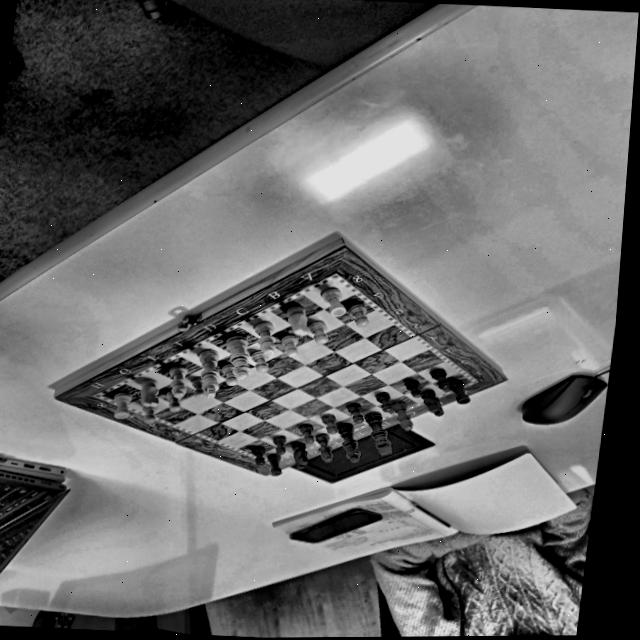black-bishop: (309, 431, 340, 463), (389, 401, 421, 431)
black-king: (362, 412, 403, 458)
black-knight: (415, 388, 448, 419), (287, 442, 315, 471)
black-pawn: (424, 364, 457, 391), (370, 389, 396, 413), (341, 401, 368, 424), (397, 377, 428, 396), (317, 411, 341, 435), (269, 433, 291, 456), (247, 443, 269, 466), (296, 422, 318, 444)
black-queen: (332, 422, 370, 464)
black-rook: (445, 379, 478, 405), (262, 452, 289, 477)
white-bishop: (249, 317, 284, 357), (164, 362, 191, 398)
white-king: (191, 348, 229, 400)
white-knight: (279, 301, 314, 337), (136, 376, 166, 409)
white-pawn: (343, 302, 374, 329), (306, 319, 335, 345), (245, 349, 275, 372), (279, 333, 305, 358), (161, 387, 184, 415), (220, 364, 244, 389), (188, 375, 210, 401), (138, 402, 161, 425)
white-queen: (218, 331, 257, 380)
white-rook: (315, 283, 351, 319), (107, 389, 137, 422)
